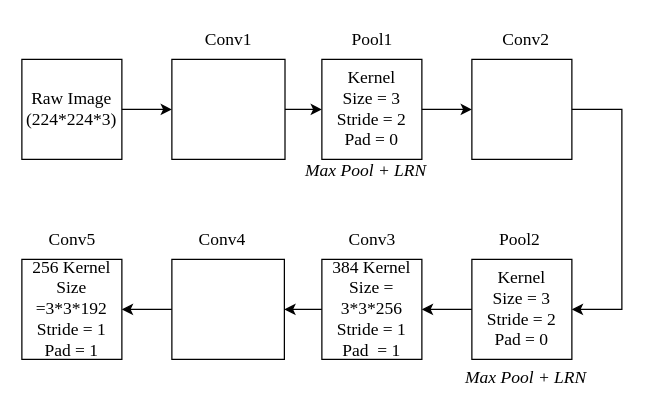
The diagram is 654 pixels wide and 418 high, and some of its shapes have lost their labels. The centre of each missing label's shape, as x and y in pixels:
"256 Kernel Size = 5*5*48 Stride = 1 Pad = 2" belongs at point 521,108.
"384 kernel Size = 3*3*192 Stride = 1 Pad = 1" belongs at point 227,308.
"96 Kernel Size = 11*11*3 Stride = 4 Pad: 0" belongs at point 228,108.
